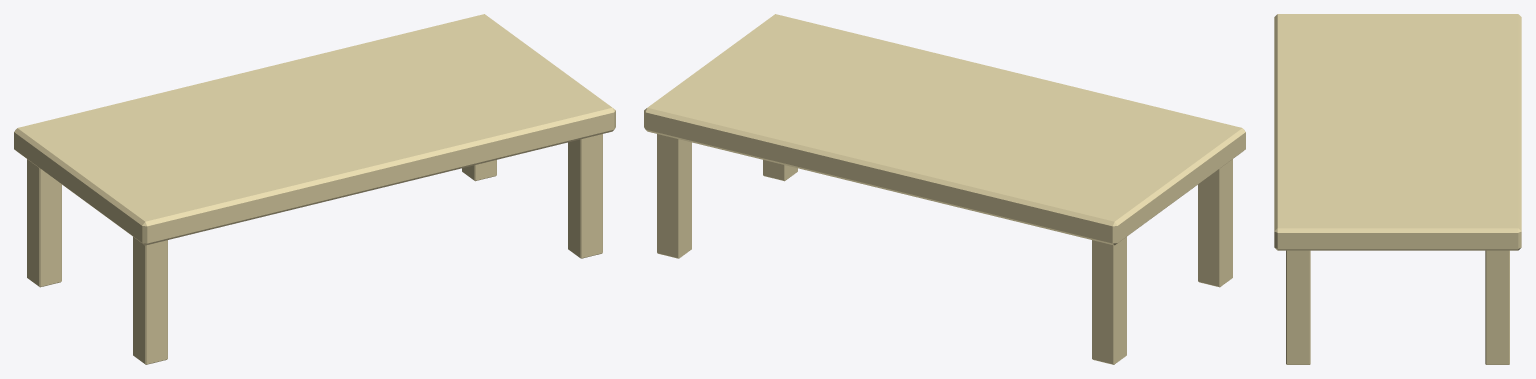
The model's file is table.fbx.
The picture shows the model from 3 angles, left to right: view 1: azimuth 30°, elevation 25°; view 2: azimuth 150°, elevation 25°; view 3: azimuth 270°, elevation 25°; orthographic projection. The views are drawn at different scales.
Visible parts, largest first — view 1: Table; view 2: Table; view 3: Table.
Boxes of the visible parts, bbox=[...] form: Table: bbox=[14, 14, 615, 364]; Table: bbox=[644, 14, 1245, 364]; Table: bbox=[1274, 14, 1521, 364].
Bounding box in the file's own units: 231 × 69.13 × 111.
